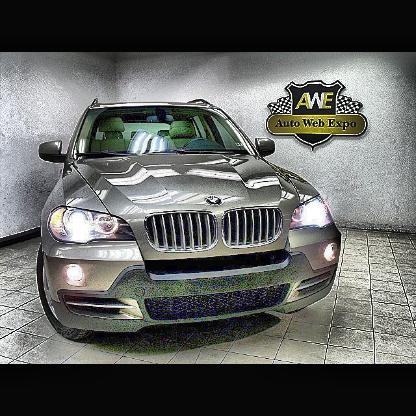BMW X5 SUV 2007: (36, 97, 344, 345)
